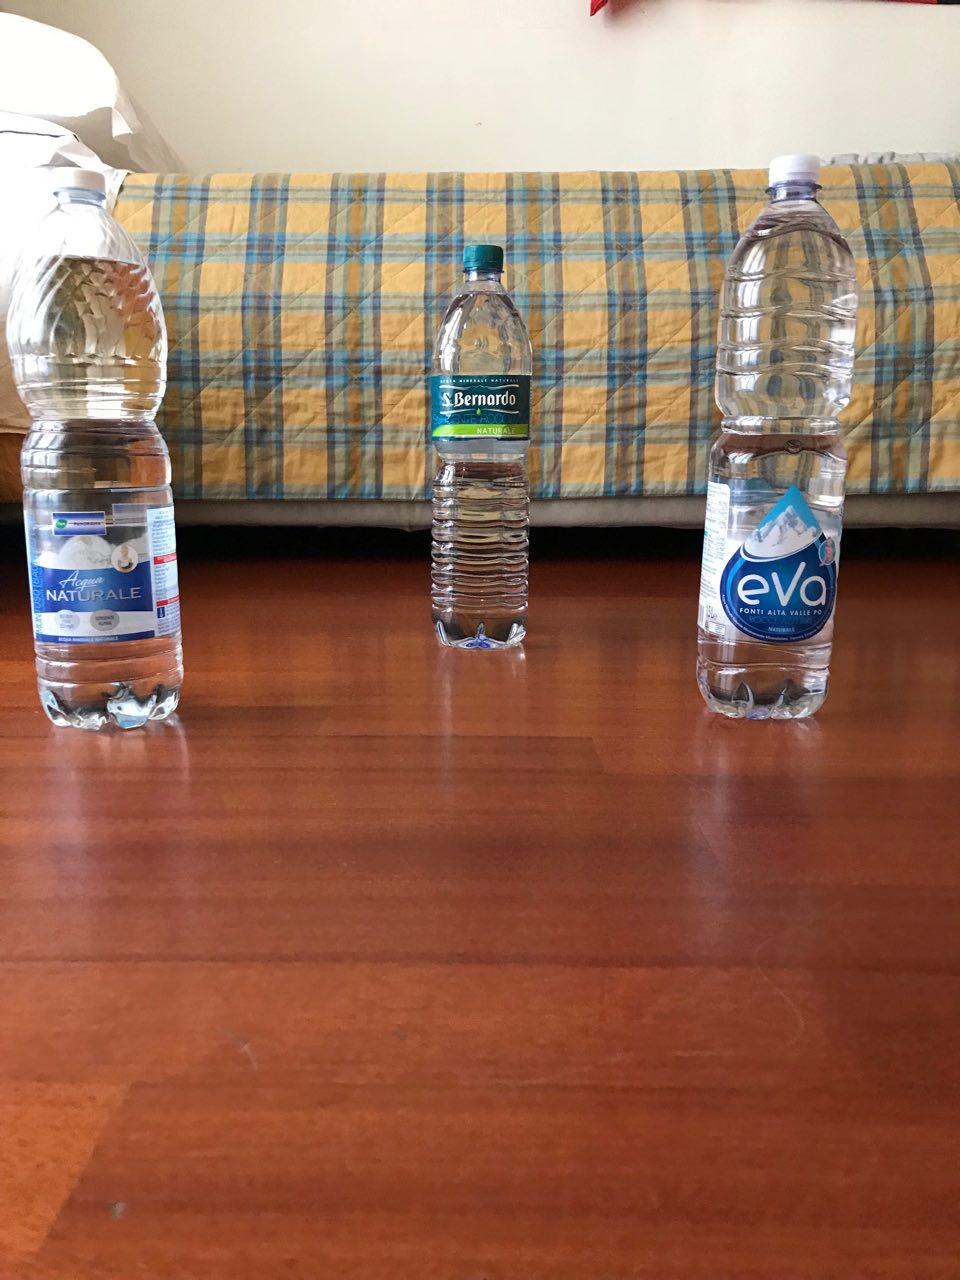san_bernardo: (430, 244, 532, 650)
